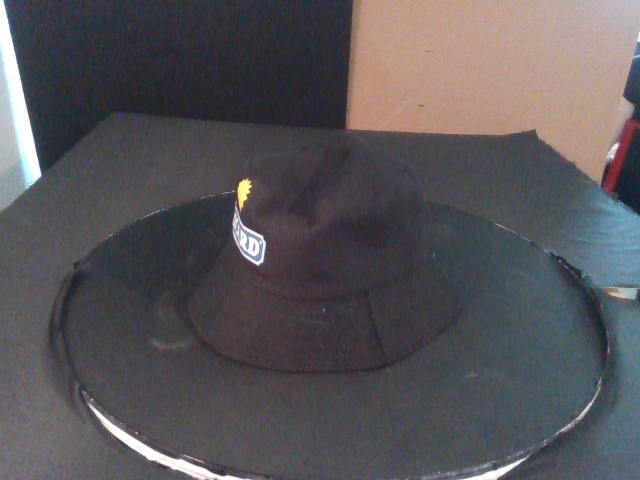hat: (182, 133, 448, 375)
